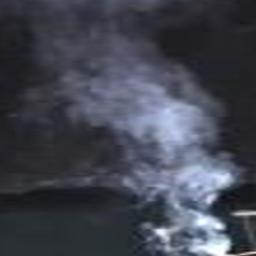smoke: (0, 0, 241, 256)
